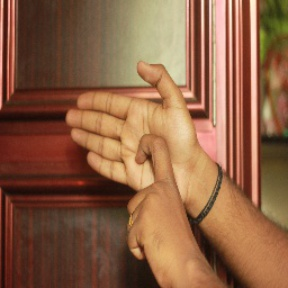R: (61, 56, 204, 254)
